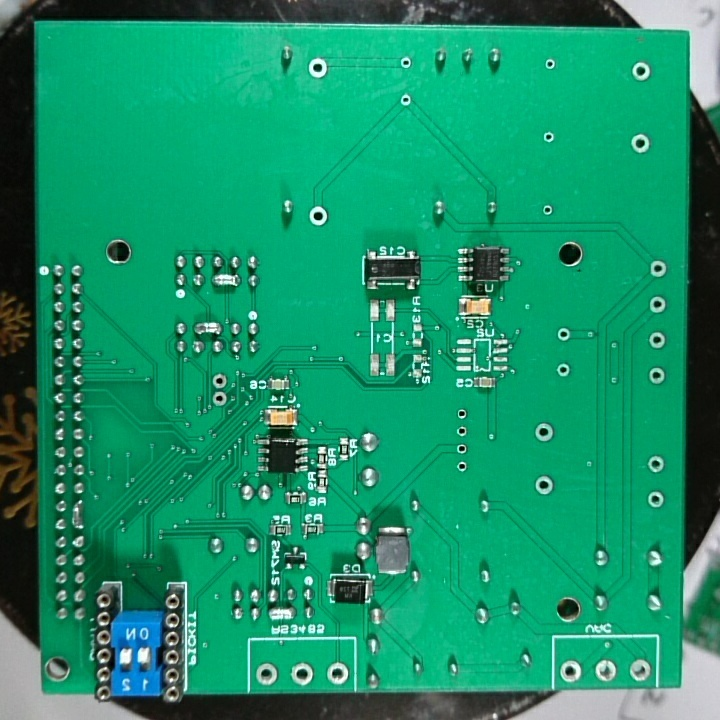F: (288, 660, 317, 690), (626, 655, 653, 685), (593, 655, 619, 685), (324, 660, 350, 688), (254, 660, 279, 689), (628, 131, 654, 158), (532, 418, 557, 446), (304, 56, 332, 80), (629, 58, 654, 84), (531, 473, 557, 498), (559, 656, 582, 684), (306, 203, 330, 229), (645, 488, 668, 513), (648, 293, 670, 317), (648, 258, 670, 281), (646, 364, 667, 387), (646, 329, 666, 351), (645, 453, 665, 475), (539, 127, 559, 149), (209, 371, 230, 391), (208, 389, 228, 409), (541, 55, 561, 75), (397, 54, 418, 73), (555, 360, 572, 382), (397, 89, 414, 111), (555, 324, 571, 345), (453, 440, 471, 458), (454, 405, 471, 423), (540, 201, 557, 219), (455, 423, 468, 440), (454, 458, 466, 475)
P: (68, 498, 88, 532), (266, 605, 297, 623), (192, 320, 223, 337), (211, 271, 239, 289)
